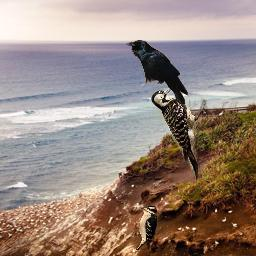Crow: (125, 40, 188, 104)
Woodpecker: (151, 88, 207, 182), (131, 204, 158, 250)
